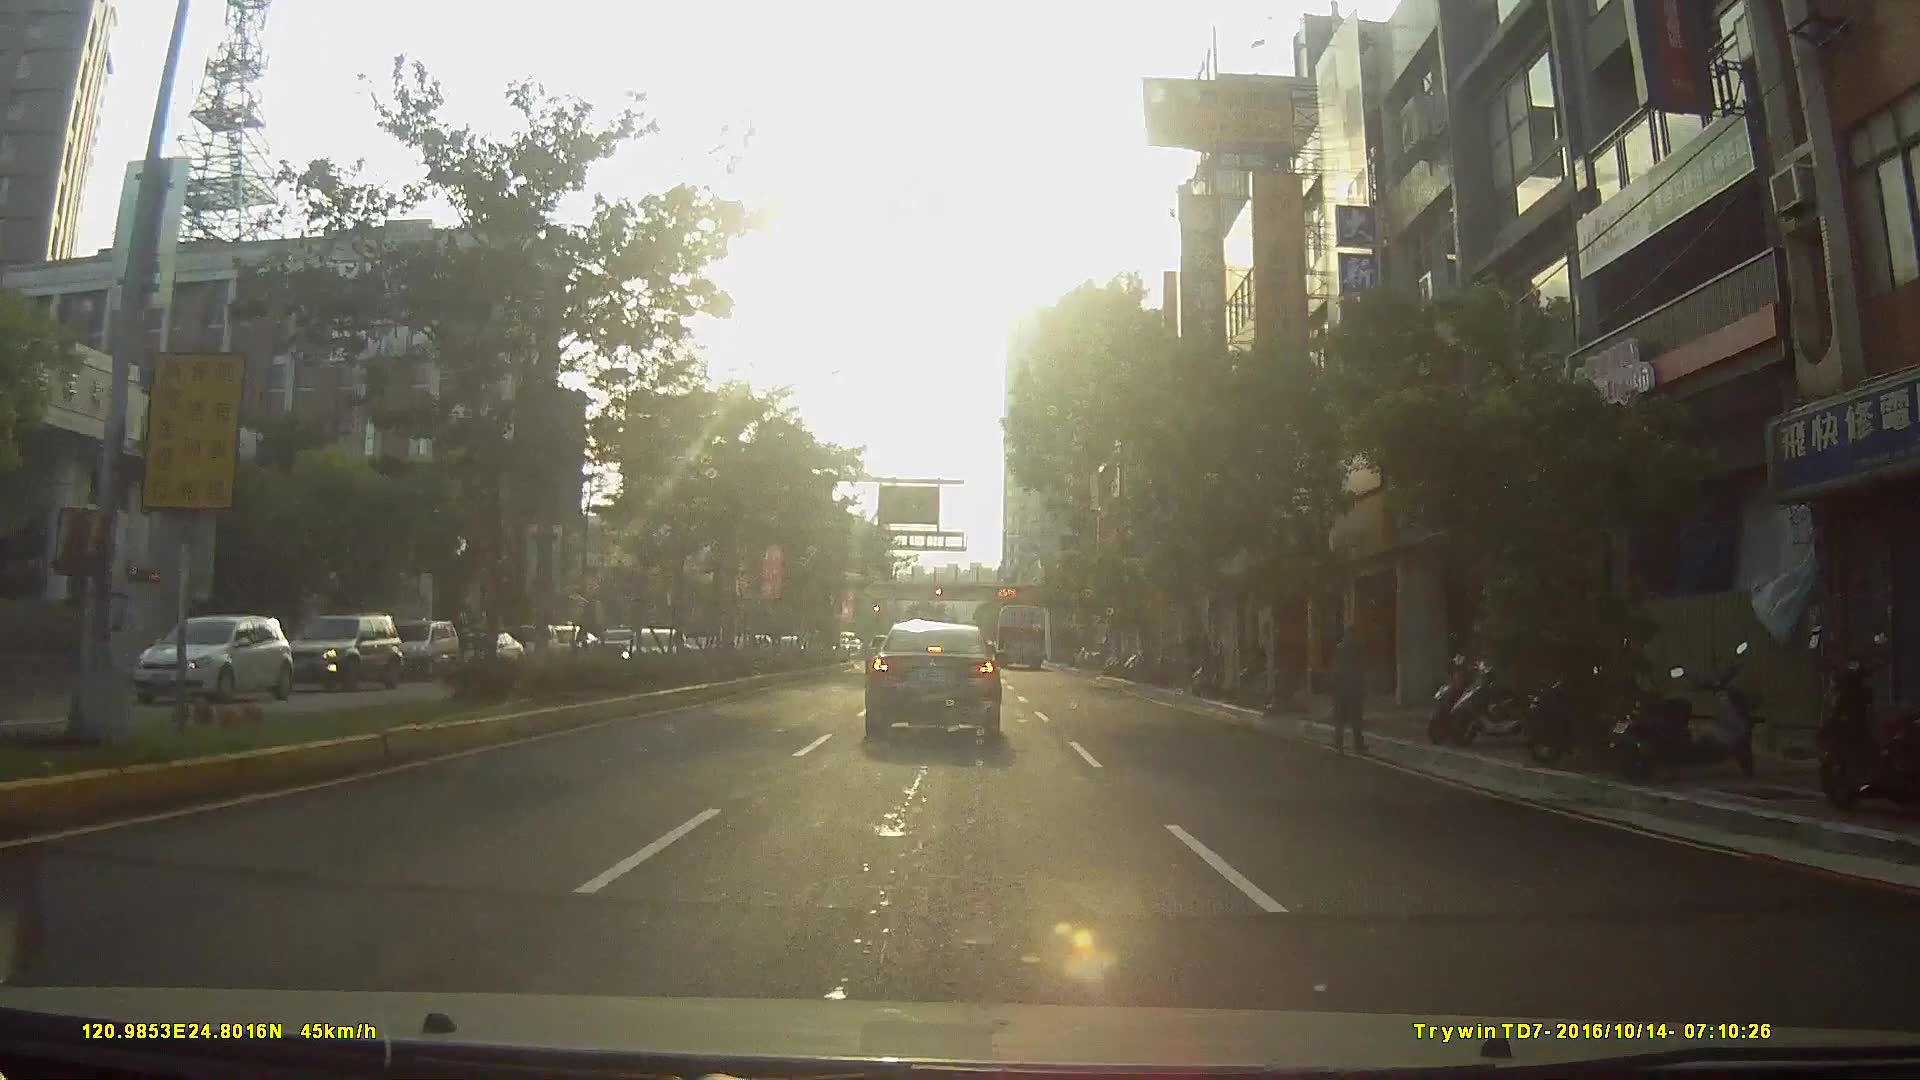pedestrian: (1320, 620, 1377, 758)
vehicle: (118, 610, 305, 708), (862, 619, 1002, 739), (269, 612, 411, 699), (380, 616, 456, 677), (996, 604, 1046, 671)
